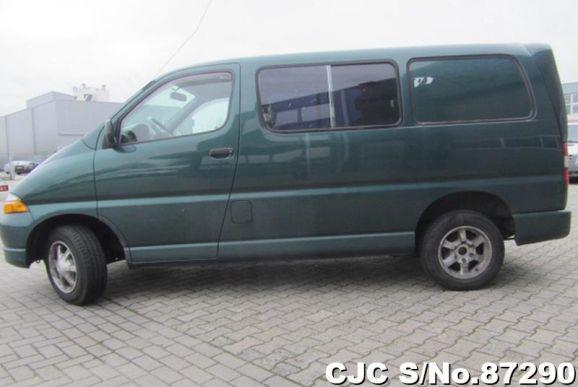van: (7, 42, 570, 296)
